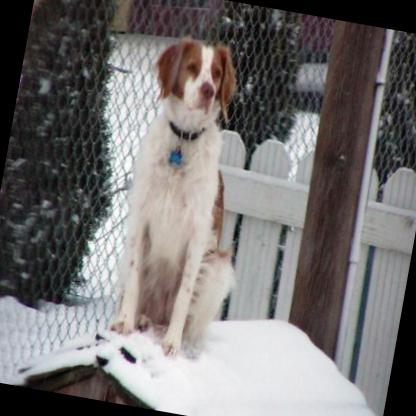Brittany_spaniel: (106, 32, 276, 366)
